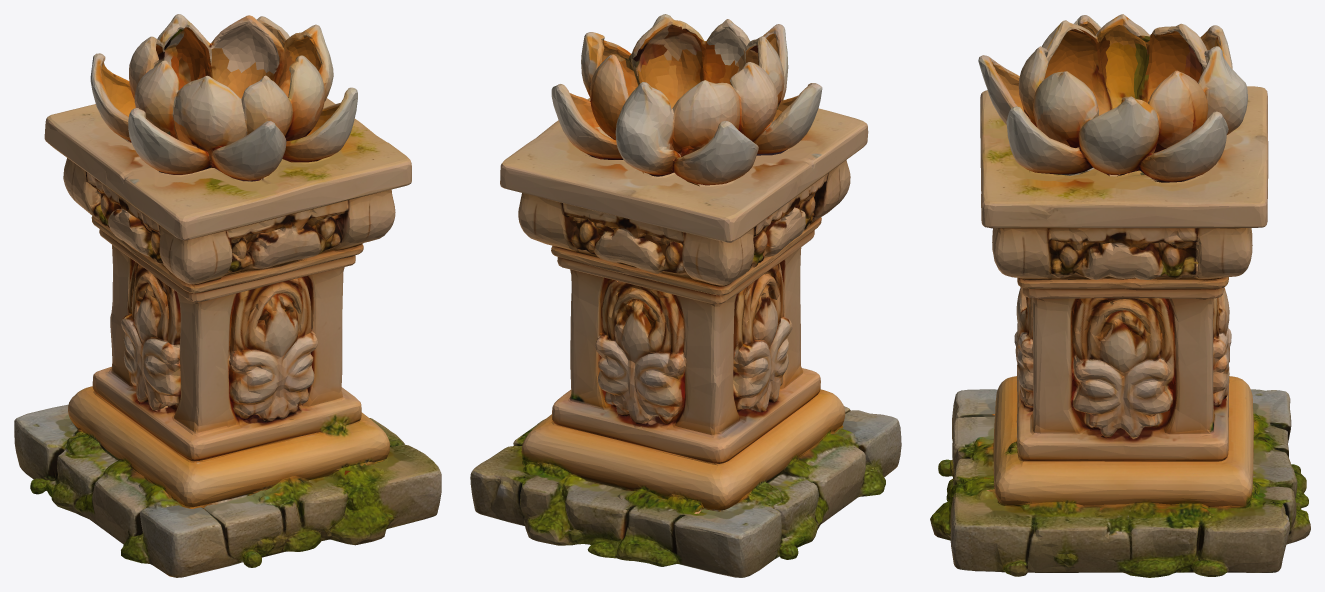
Rendered from lotus-motif-pillar-capital-optimized.glb.
The picture shows the model from 3 angles, left to right: view 1: azimuth 30°, elevation 25°; view 2: azimuth 150°, elevation 25°; view 3: azimuth 270°, elevation 25°; orthographic projection. The views are drawn at different scales.
Visible parts, largest first — view 1: 31420159-11e1-4433-819a-61559e11f9bc_texturing; view 2: 31420159-11e1-4433-819a-61559e11f9bc_texturing; view 3: 31420159-11e1-4433-819a-61559e11f9bc_texturing.
Boxes of the visible parts, bbox=[...] form: 31420159-11e1-4433-819a-61559e11f9bc_texturing: bbox=[14, 14, 441, 577]; 31420159-11e1-4433-819a-61559e11f9bc_texturing: bbox=[470, 14, 901, 577]; 31420159-11e1-4433-819a-61559e11f9bc_texturing: bbox=[930, 14, 1310, 577].
Bounding box in the file's own units: 0.7148 × 1 × 0.7511.
Materials: 1 (1 with a texture image).
